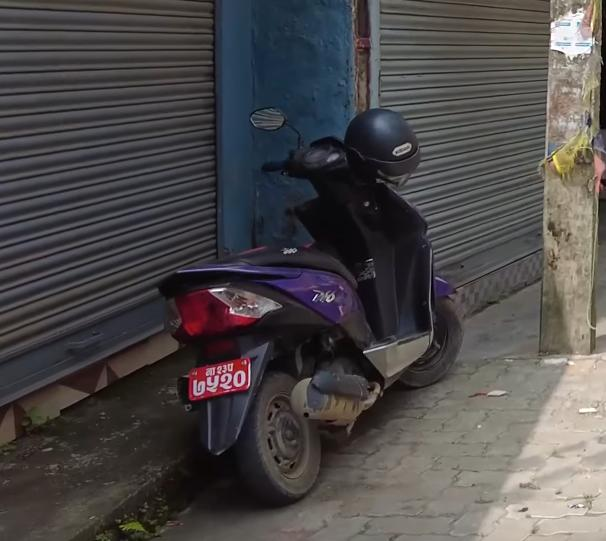scooter: (167, 100, 468, 512)
